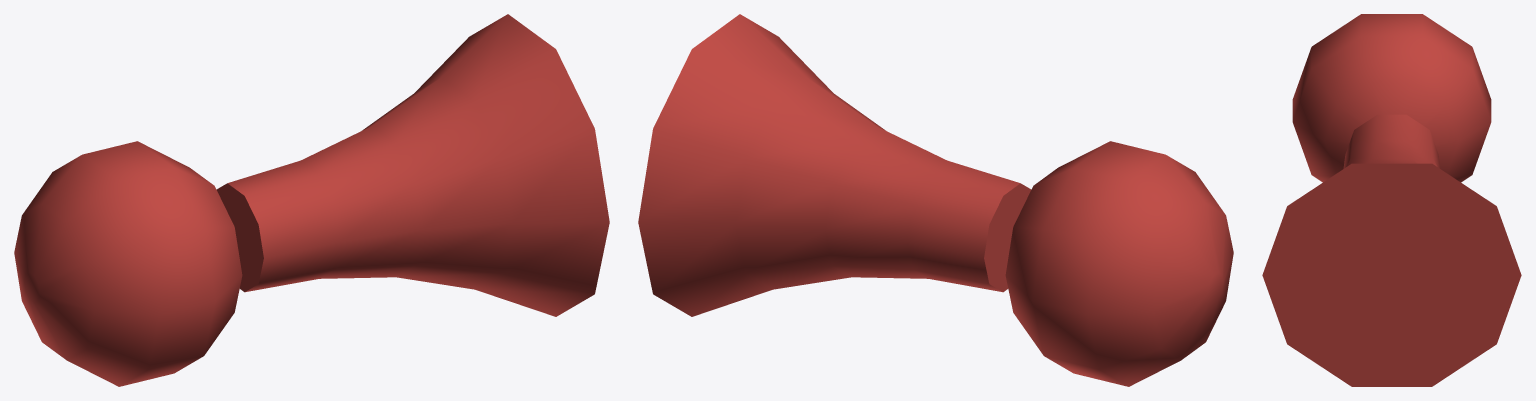
The model's file is klaxon_lod1.glb.
3 renders of one model, left to right at view 1: azimuth 30°, elevation 25°; view 2: azimuth 150°, elevation 25°; view 3: azimuth 270°, elevation 25°, orthographic. The views are drawn at different scales.
Visible parts, largest first — view 1: klaxon_lod1; view 2: klaxon_lod1; view 3: klaxon_lod1.
Part boxes in pixels (x1,y1,x2,y2): klaxon_lod1: (14, 14, 609, 386); klaxon_lod1: (638, 14, 1233, 386); klaxon_lod1: (1262, 14, 1521, 386).
Bounding box in the file's own units: 0.1857 × 0.0951 × 0.1.
